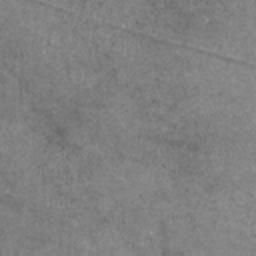Finishing roll printing: (25, 0, 256, 70)
